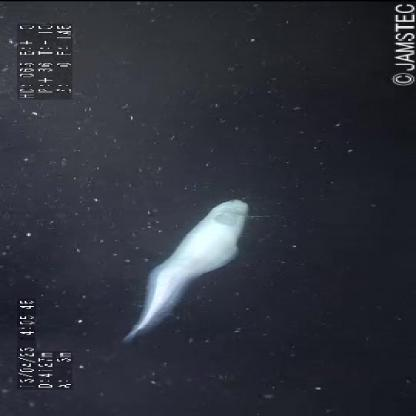Bio: (116, 198, 272, 348)
